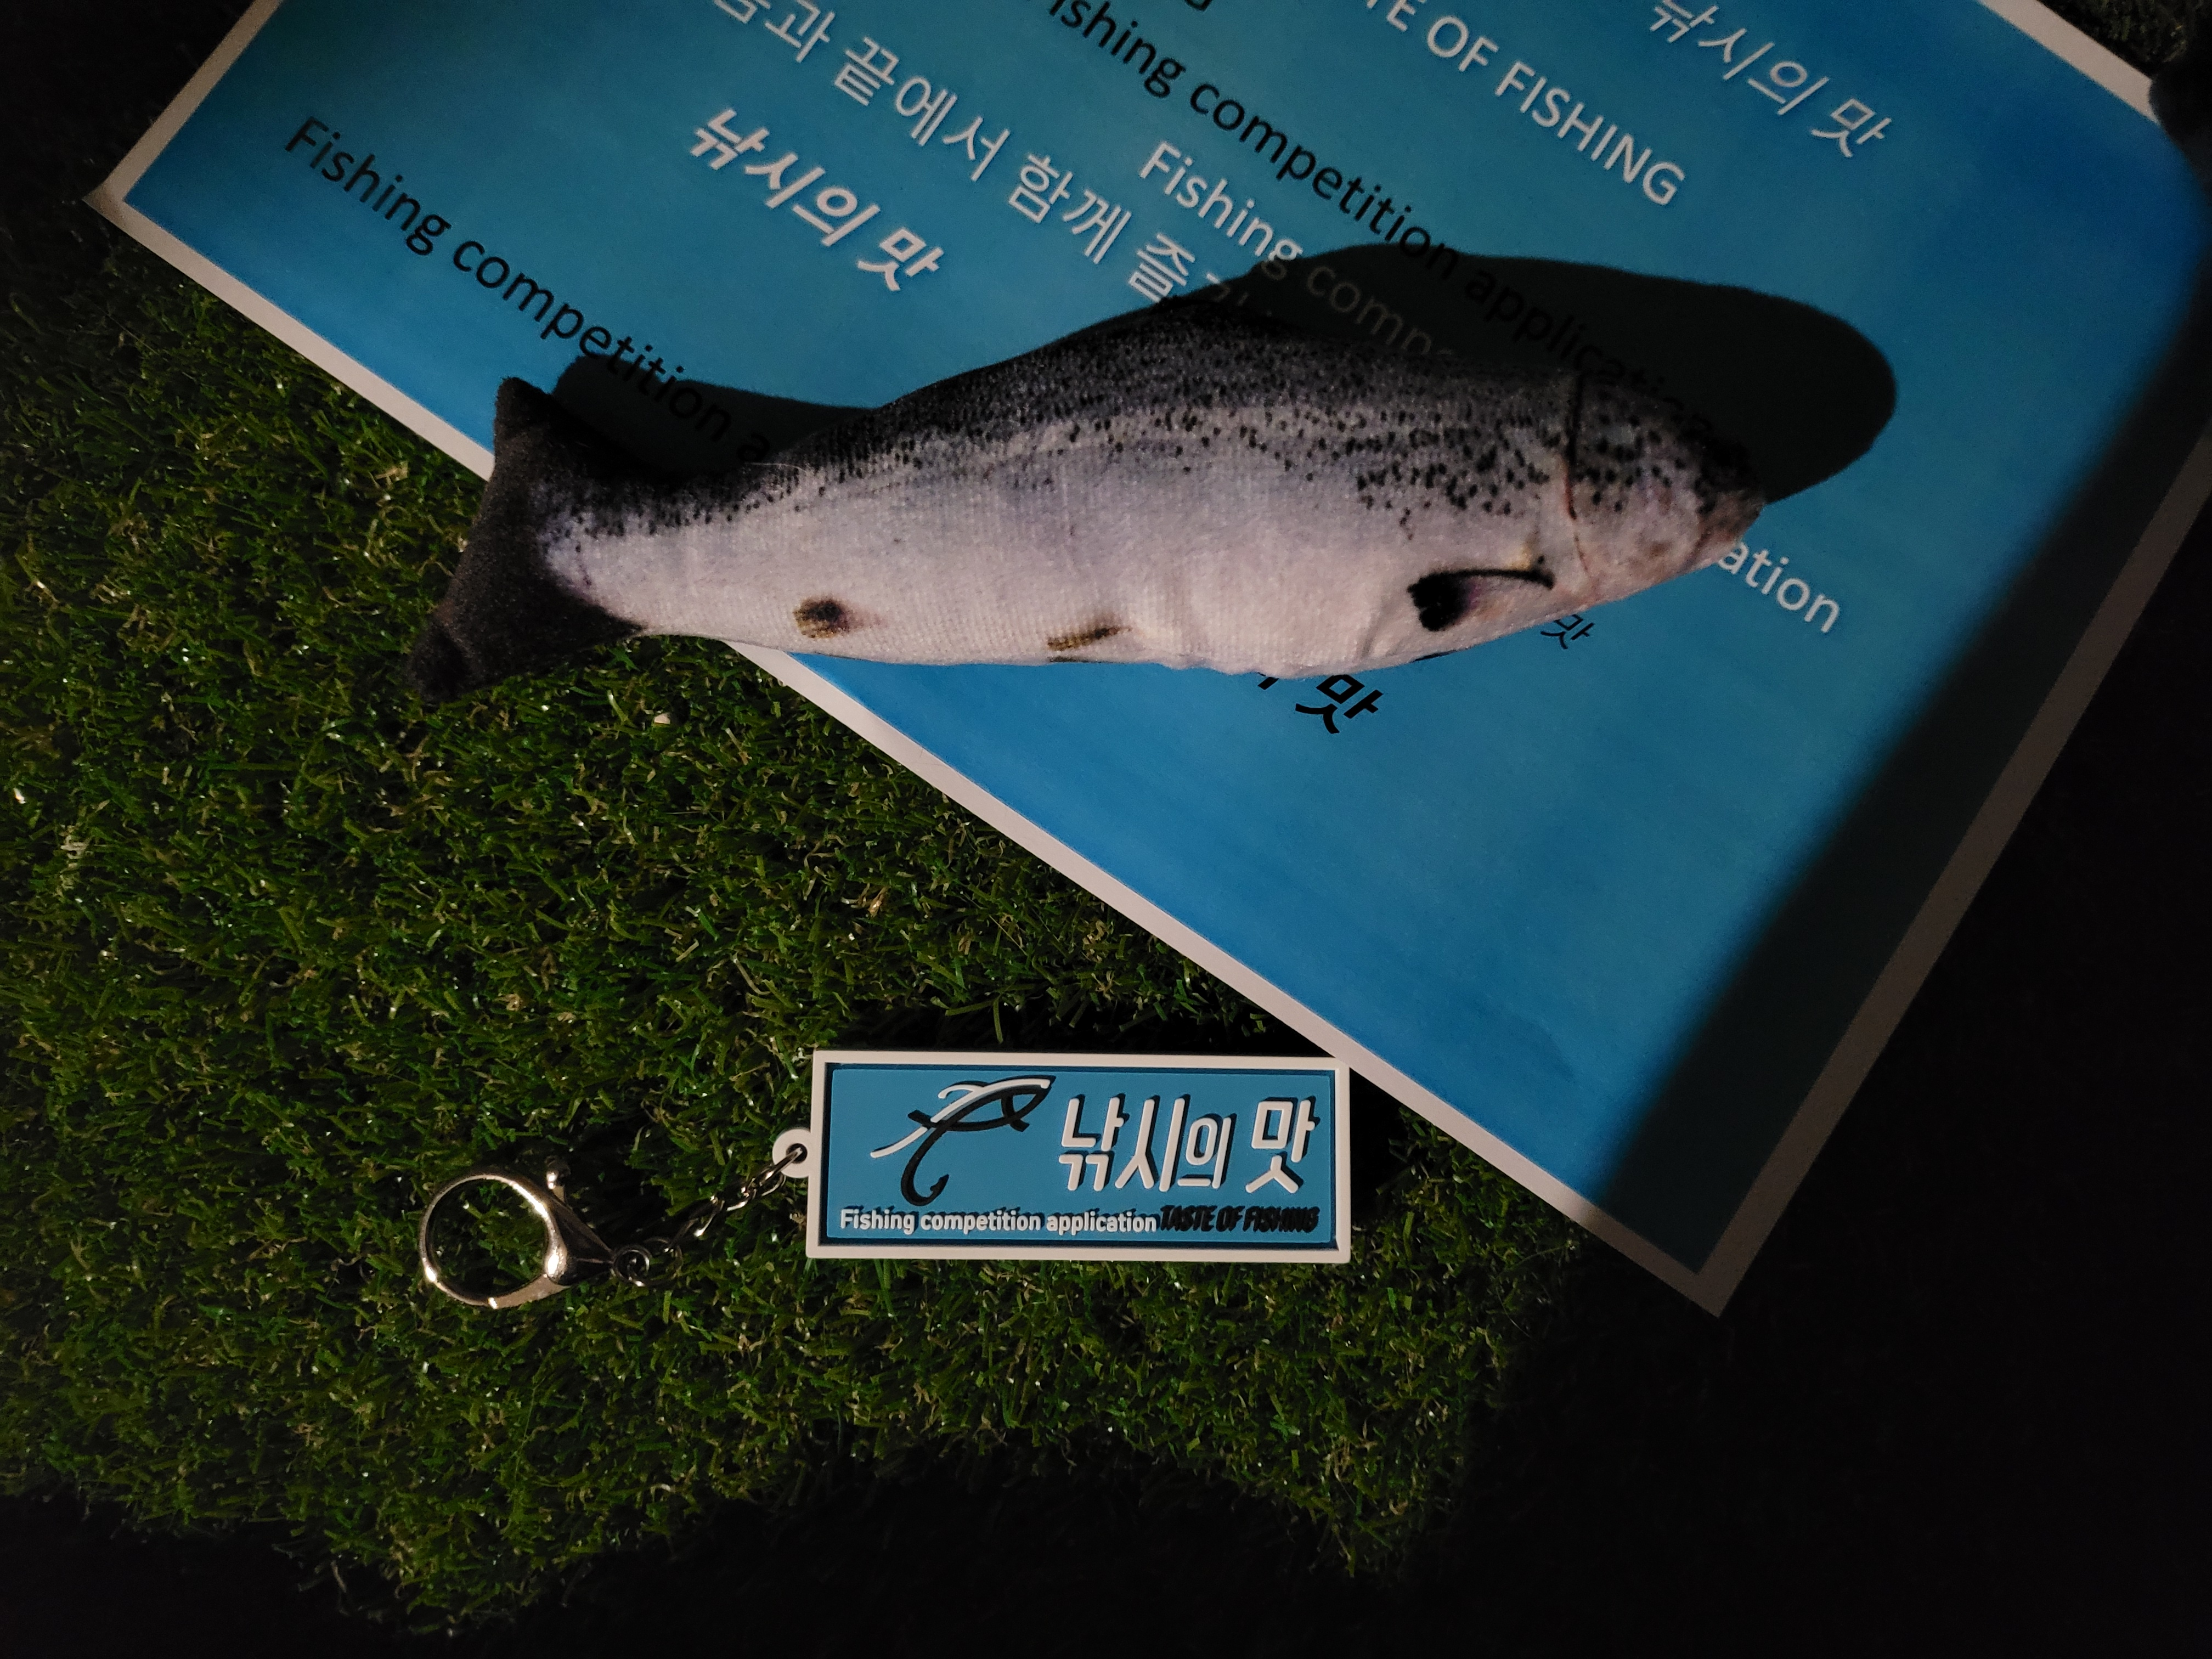fish: (434, 315, 1761, 704)
tag: (796, 1040, 1353, 1262)
